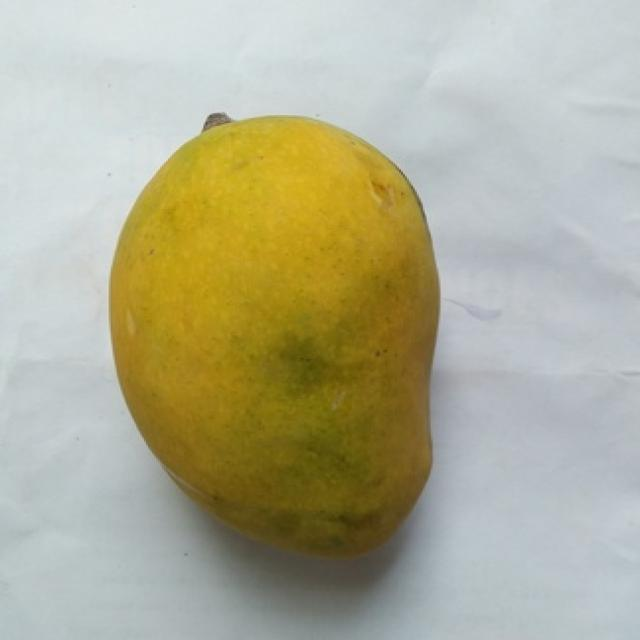Mango: (109, 115, 437, 555)
